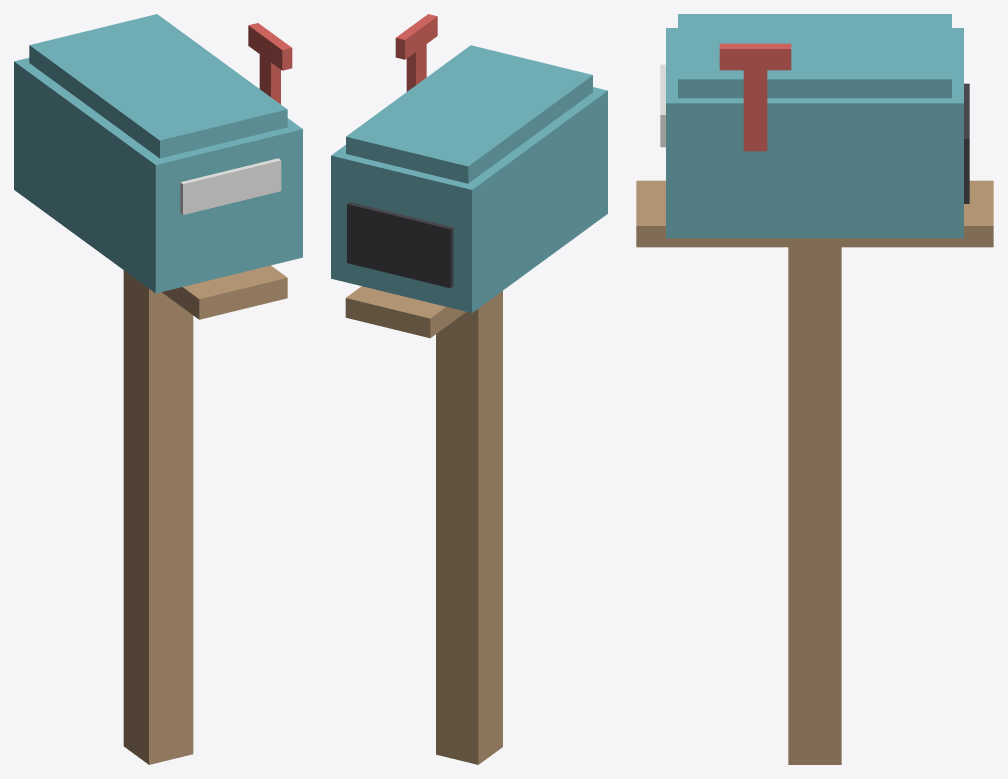
Rendered from mailbox.glb.
3 renders of one model, left to right at view 1: azimuth 30°, elevation 25°; view 2: azimuth 150°, elevation 25°; view 3: azimuth 270°, elevation 25°, orthographic. The views are drawn at different scales.
Visible parts, largest first — view 1: mailbox; view 2: mailbox; view 3: mailbox.
Part boxes in pixels (<box>): mailbox: <box>14,14,302,764</box>; mailbox: <box>331,14,607,764</box>; mailbox: <box>636,14,993,764</box>.
Bounding box in the file's own units: 0.33 × 1.39 × 0.6.
